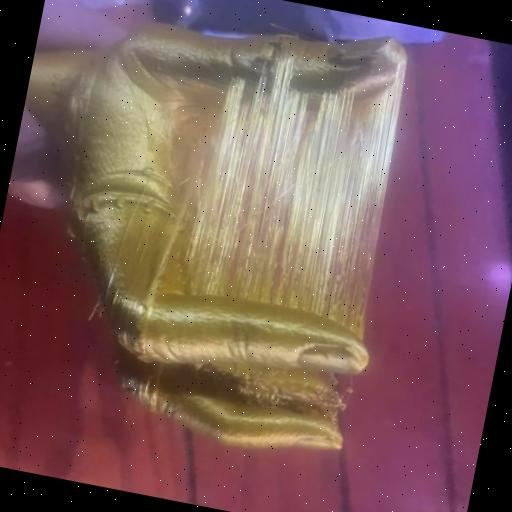stringing: (168, 52, 411, 344)
